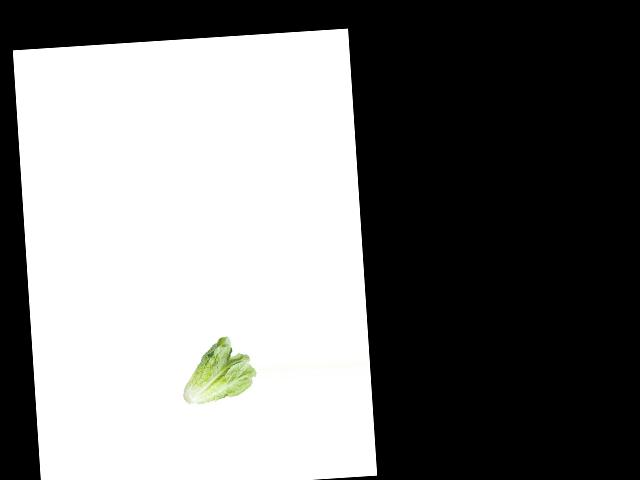lettuce: (180, 332, 259, 407)
